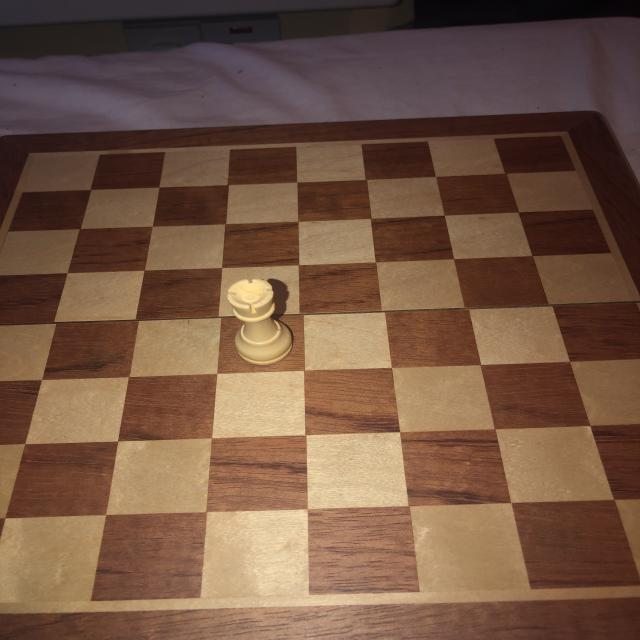white_rook: (227, 277, 294, 365)
